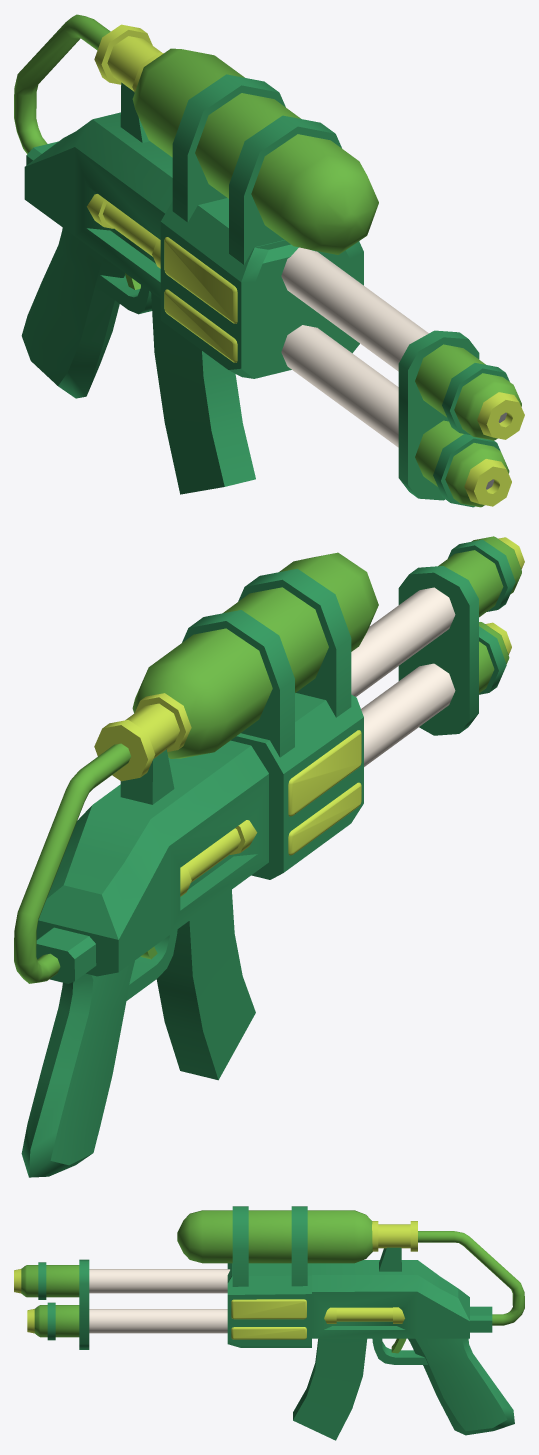
The model's file is Watergun_02.fbx.
3 views of the same model, one above another, from view 1: azimuth 30°, elevation 25°; view 2: azimuth 150°, elevation 25°; view 3: azimuth 270°, elevation 25° (orthographic). The views are drawn at different scales.
Parts seen in each view (by area): view 1: Watergun_02; view 2: Watergun_02; view 3: Watergun_02.
Boxes of the visible parts, x1,y1,x2,y2 form: Watergun_02: [14, 14, 524, 507]; Watergun_02: [14, 536, 524, 1177]; Watergun_02: [14, 1206, 524, 1440].
Size of the model in its own units: 0.0992 by 0.3211 by 0.6504.
